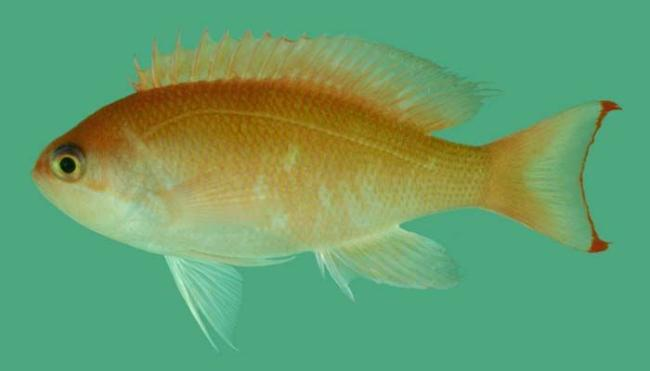fish: (31, 23, 626, 352)
